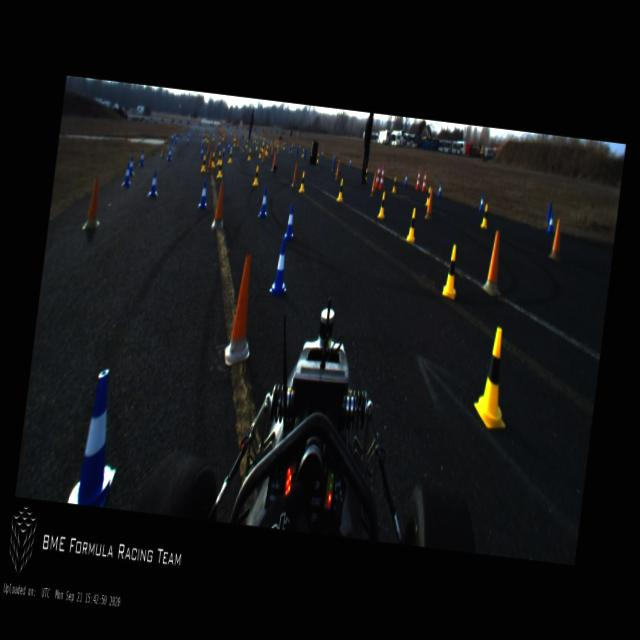blue_cone: (67, 365, 127, 507), (268, 235, 292, 297), (283, 202, 297, 240), (258, 185, 270, 218), (148, 170, 160, 197), (198, 180, 209, 208), (122, 164, 131, 186), (546, 212, 555, 234), (127, 156, 135, 176), (166, 145, 172, 160), (479, 194, 484, 210), (140, 149, 144, 165), (438, 182, 442, 196), (404, 172, 408, 185), (200, 145, 203, 158), (170, 132, 173, 142), (222, 146, 225, 156), (227, 142, 230, 151), (348, 158, 351, 166), (186, 136, 189, 144), (320, 150, 322, 158), (175, 136, 177, 144), (180, 132, 182, 138)
large_orange_cone: (378, 166, 386, 188), (374, 164, 380, 187), (422, 170, 428, 191), (415, 170, 421, 190)
yellow_cone: (471, 324, 518, 430), (441, 242, 462, 298), (406, 206, 418, 242), (377, 190, 387, 218), (480, 204, 490, 228), (336, 178, 345, 202), (298, 170, 306, 192), (252, 165, 260, 185), (216, 158, 224, 176), (200, 155, 207, 171), (391, 176, 397, 192), (211, 151, 216, 166), (426, 186, 430, 204), (246, 148, 252, 160), (228, 150, 233, 163), (363, 168, 368, 180), (258, 147, 262, 158), (316, 152, 320, 163), (217, 150, 220, 164), (245, 138, 248, 148), (256, 140, 258, 150), (302, 148, 304, 158), (266, 145, 268, 155), (283, 142, 285, 150)
